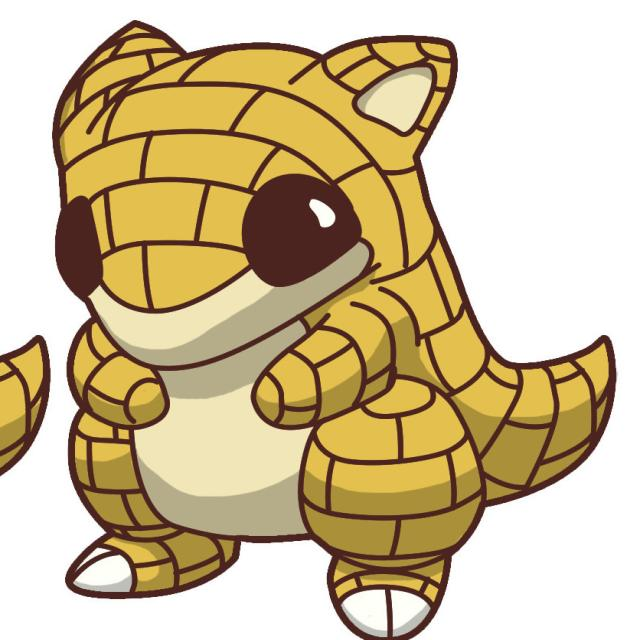Sandshrew: (50, 22, 499, 596)
